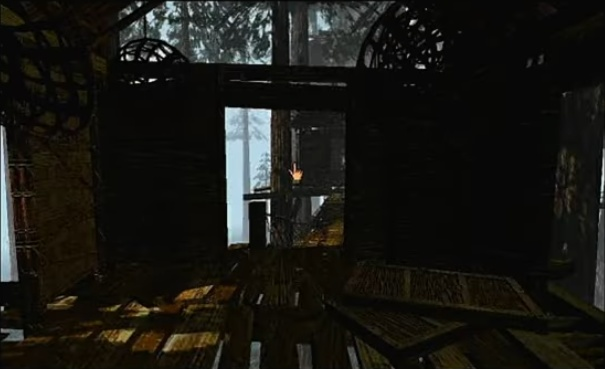Pointer: (285, 160, 308, 183)
